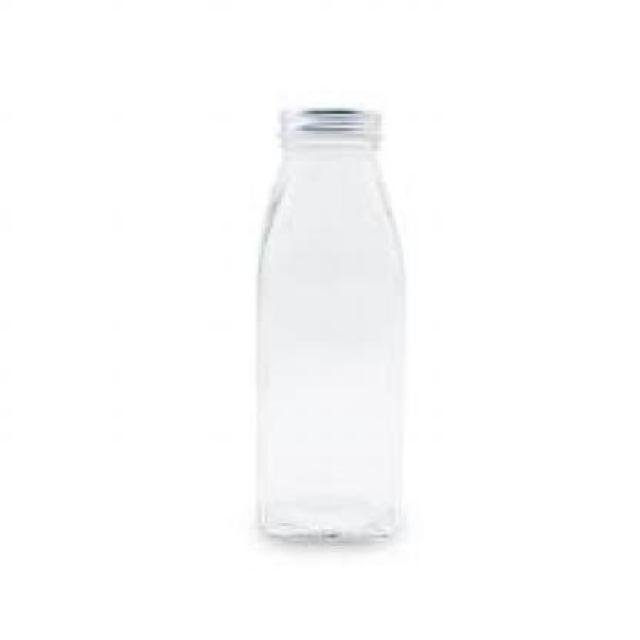kaca: (250, 110, 402, 538)
